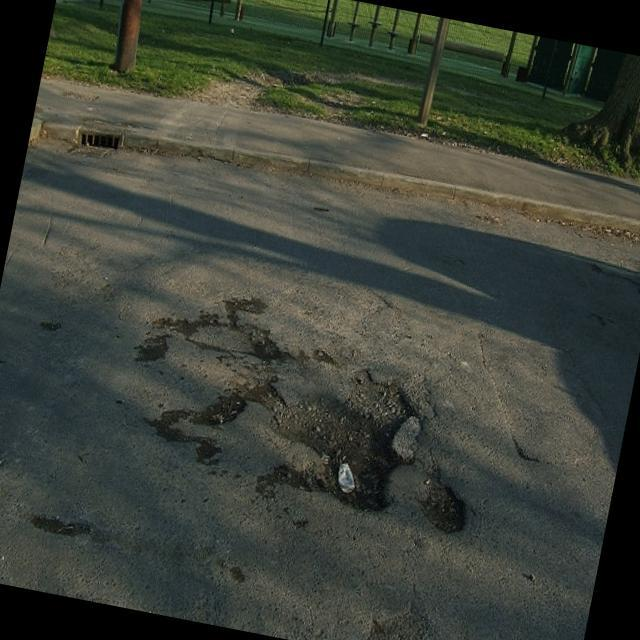Pothole: (280, 360, 495, 550), (158, 282, 310, 458)
